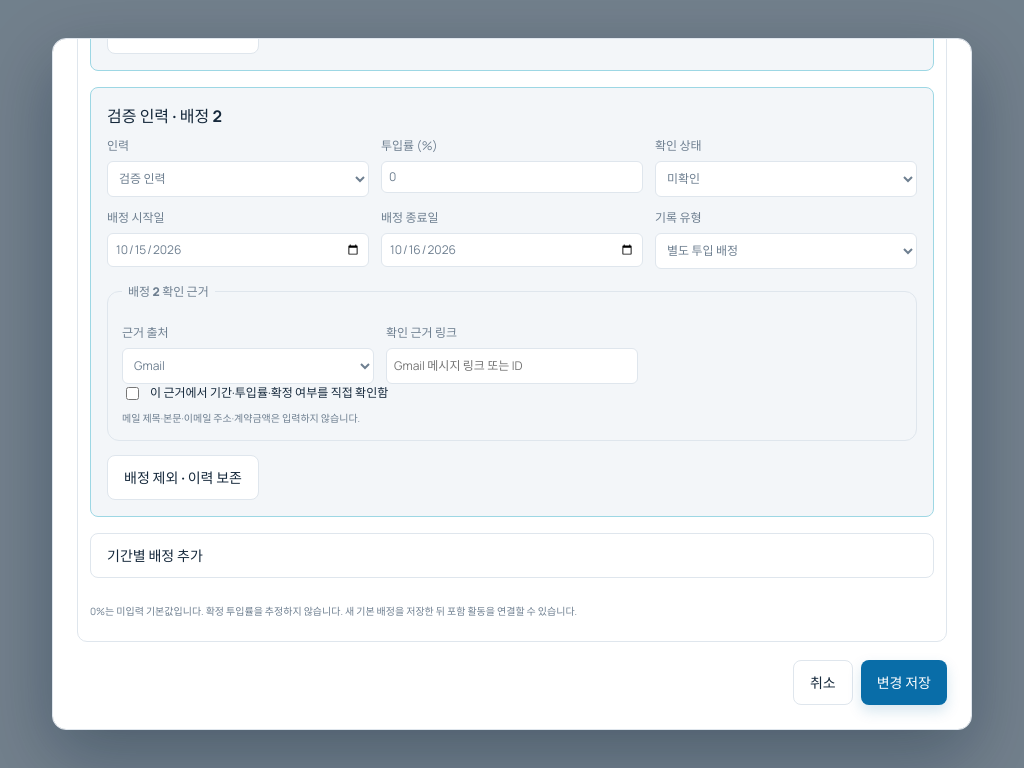
Test: atomic project editing › starts new periods without fabricated dates or 50 percent and blocks an evidence-free rate edit
(page scrolled)
Check: the button "변경 저장" is enabled, box [861,660,947,705]
Click the button "기간별 배정 추가": (155, 555) [90,533,934,578]
(page scrolled)
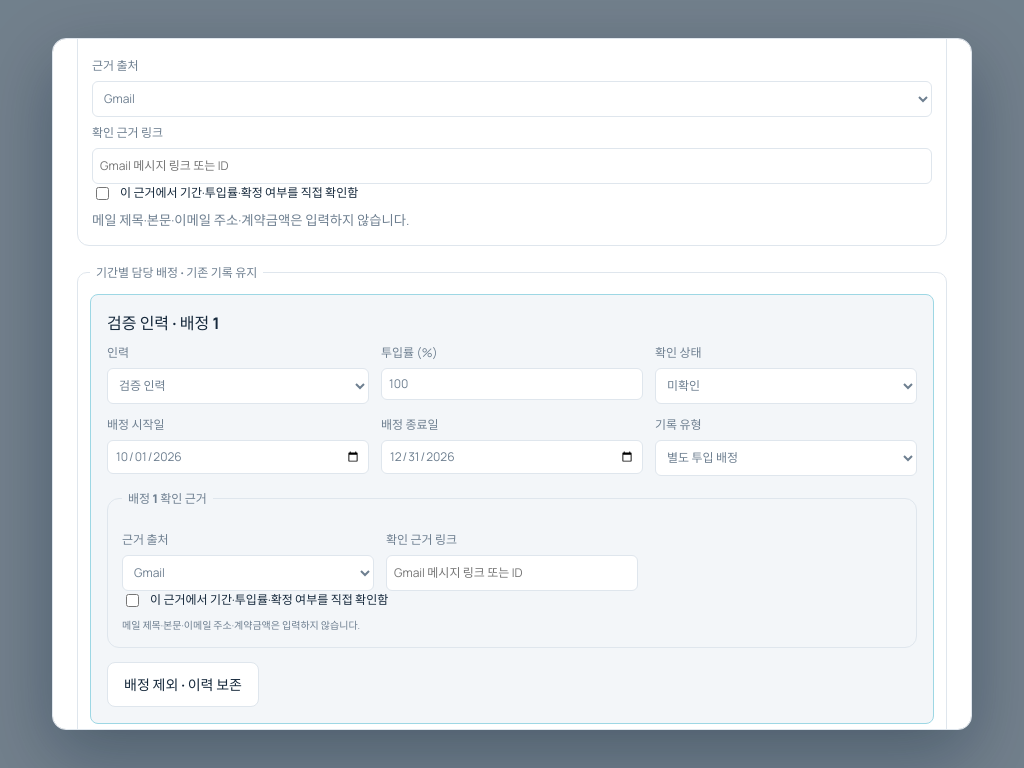
Replace the text in the number field named "배정 1 투입률" with "75": (512, 384) [381,368,643,400]
(page scrolled)
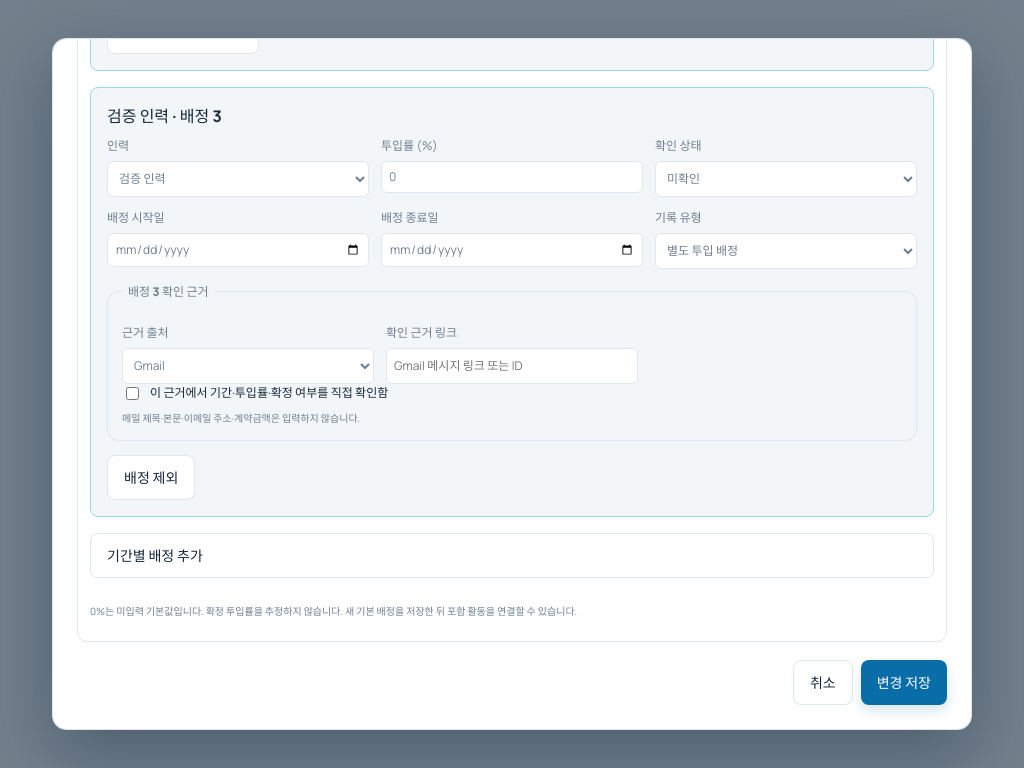
Click the button "변경 저장": (904, 682) [861,660,947,705]
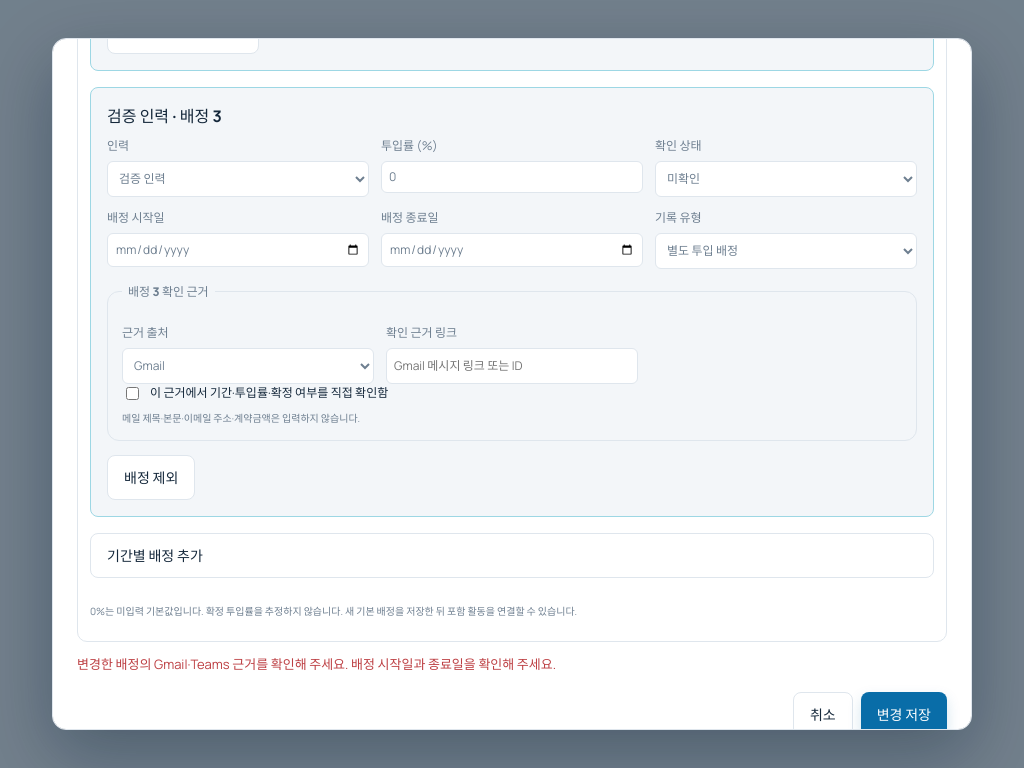
Check: the text "변경한 배정의 Gmail·Teams 근거를 확인해 주세요. 배정 시작일과 종료일을 확인해 주세요." is shown, box [77,655,556,673]
